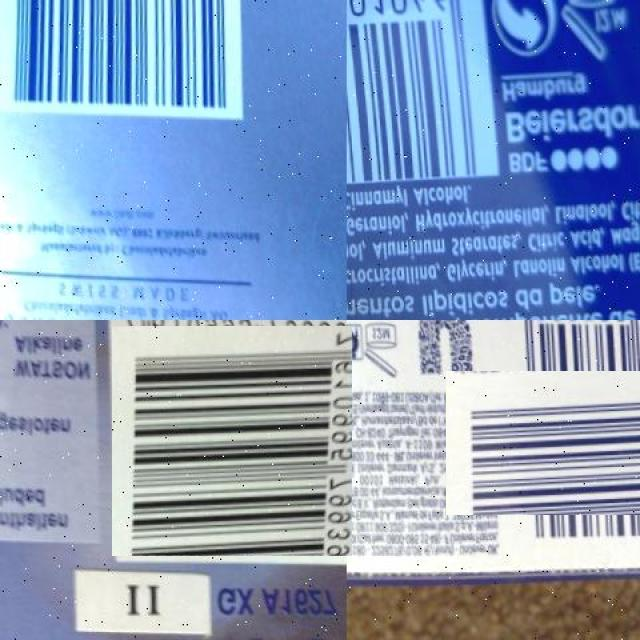Barcode: (114, 323, 350, 558), (471, 346, 640, 540), (347, 0, 501, 204), (0, 0, 252, 123)
